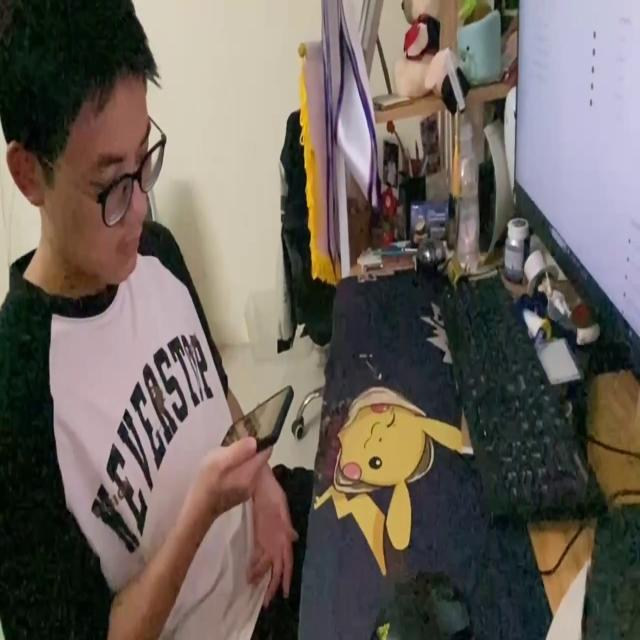laptop: (509, 0, 640, 393)
phone: (216, 380, 295, 457)
student: (0, 2, 302, 640)
